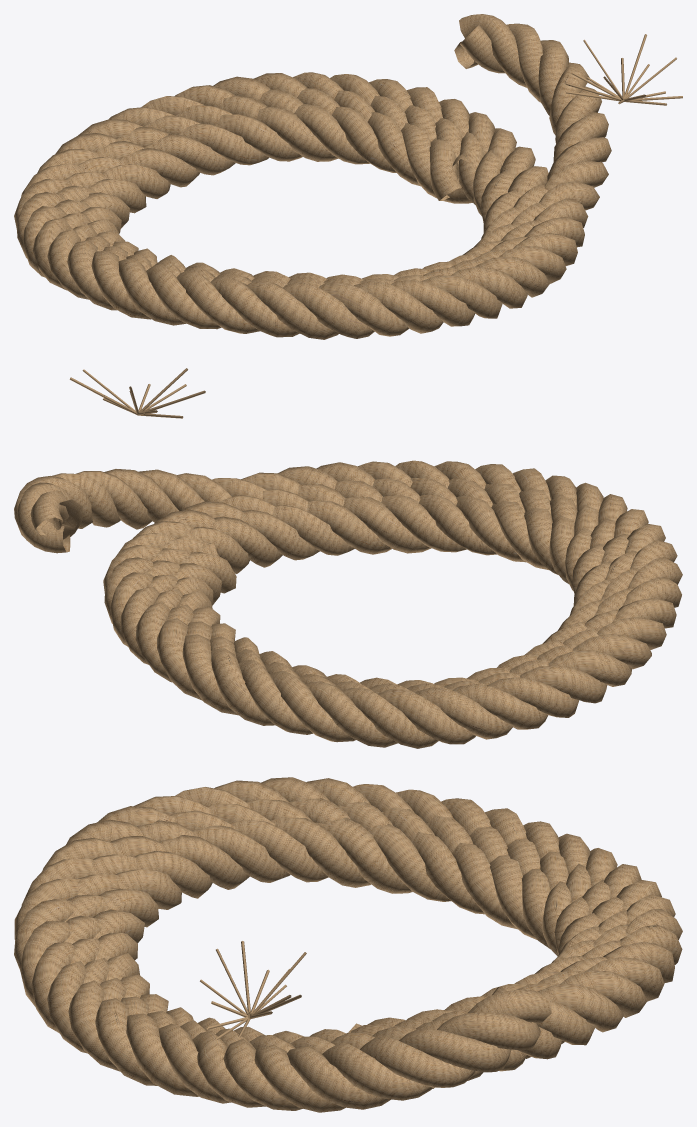
The model's file is cordel_canamo_v001_candidate.glb.
3 views of the same model, one above another, from view 1: azimuth 30°, elevation 25°; view 2: azimuth 150°, elevation 25°; view 3: azimuth 270°, elevation 25° (orthographic). The views are drawn at different scales.
Visible parts, largest first — view 1: canamo | coil 1 | twisted ply 3, canamo | coil 1 | twisted ply 2, canamo | coil 1 | twisted ply 1; view 2: canamo | coil 1 | twisted ply 2, canamo | coil 1 | twisted ply 1, canamo | coil 1 | twisted ply 3; view 3: canamo | coil 1 | twisted ply 1, canamo | coil 1 | twisted ply 2, canamo | coil 1 | twisted ply 3.
Part boxes in pixels (<box>): canamo | coil 1 | twisted ply 3: <box>21,25,608,339</box>; canamo | coil 1 | twisted ply 2: <box>14,23,608,338</box>; canamo | coil 1 | twisted ply 1: <box>16,14,611,337</box>; canamo | coil 1 | twisted ply 2: <box>16,460,677,748</box>; canamo | coil 1 | twisted ply 1: <box>30,461,681,744</box>; canamo | coil 1 | twisted ply 3: <box>14,461,682,747</box>; canamo | coil 1 | twisted ply 1: <box>20,780,675,1112</box>; canamo | coil 1 | twisted ply 2: <box>14,777,682,1110</box>; canamo | coil 1 | twisted ply 3: <box>14,778,682,1109</box>.
Bounding box in the file's own units: 0.2261 × 0.0638 × 0.1898.
Materials: 1 (1 with a texture image).
